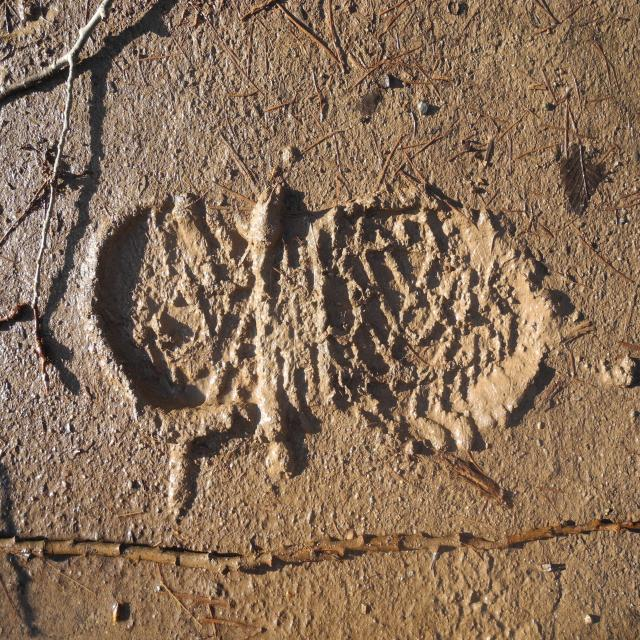human_foot_print: (85, 172, 568, 520)
